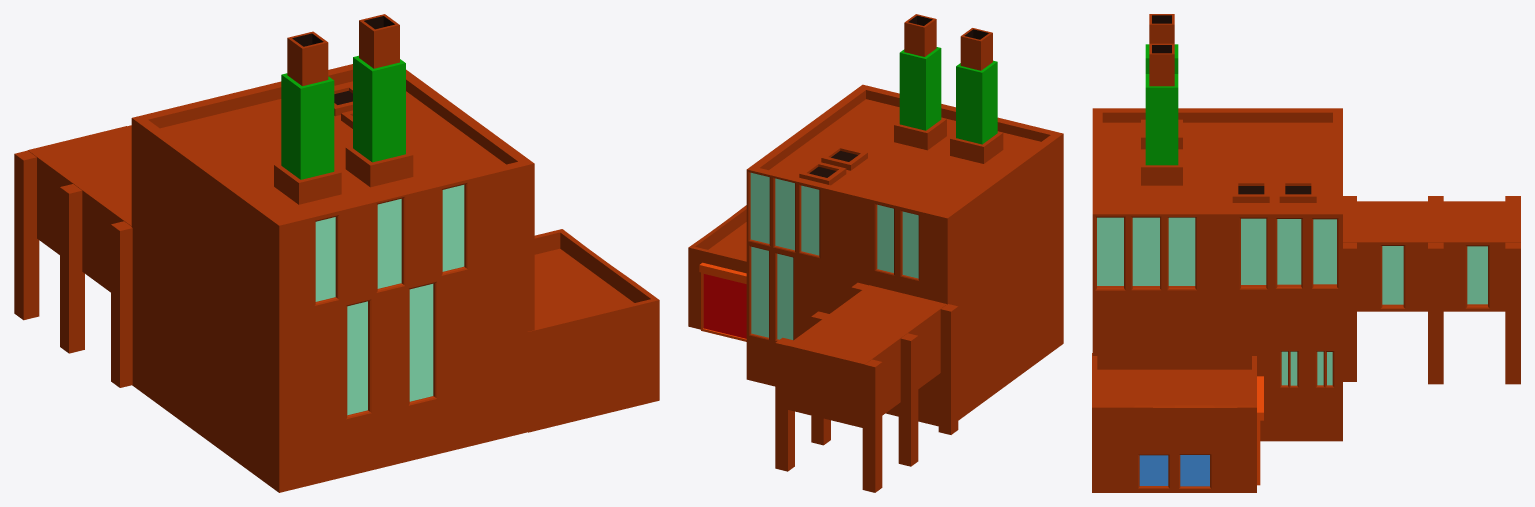
Rendered from Buelding.fbx.
3 renders of one model, left to right at view 1: azimuth 30°, elevation 25°; view 2: azimuth 150°, elevation 25°; view 3: azimuth 270°, elevation 25°, orthographic. The views are drawn at different scales.
Parts seen in each view (by area): view 1: Buelding; view 2: Buelding; view 3: Buelding.
Boxes of the visible parts, bbox=[...] form: Buelding: bbox=[14, 14, 659, 492]; Buelding: bbox=[688, 14, 1063, 492]; Buelding: bbox=[1092, 14, 1520, 492].
Size of the model in its own units: 717 by 712 by 798.
